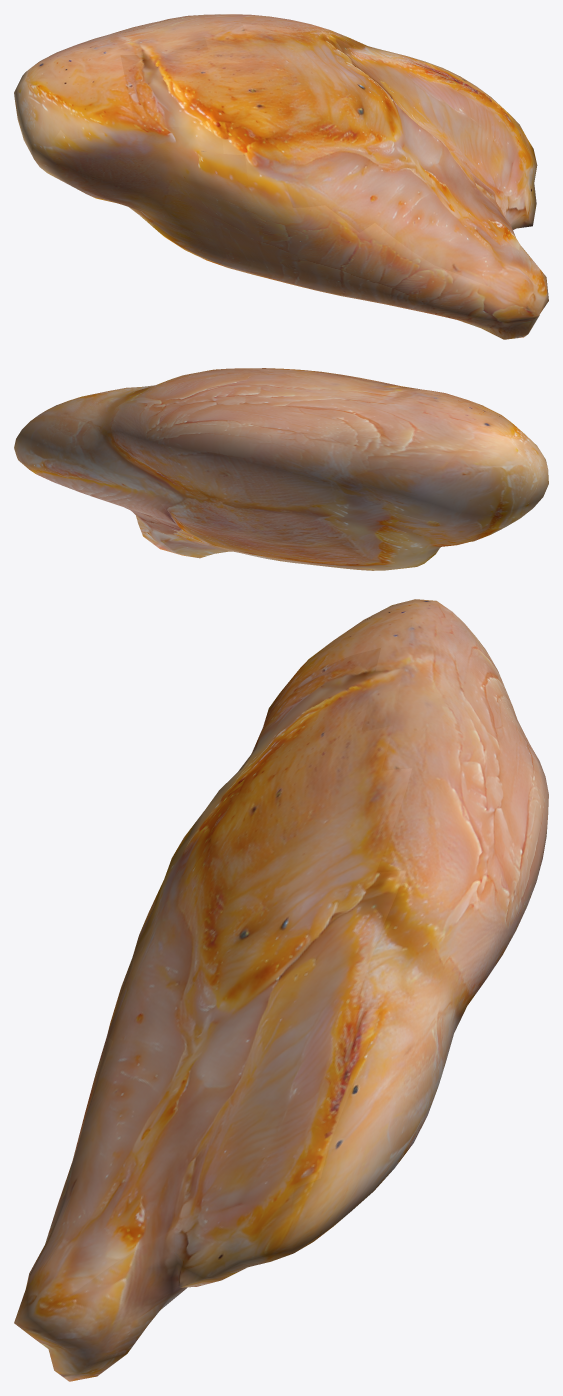
The model's file is Chicken_Breast.glb.
3 views of the same model, one above another, from view 1: azimuth 30°, elevation 25°; view 2: azimuth 150°, elevation 25°; view 3: azimuth 270°, elevation 25° (orthographic). The views are drawn at different scales.
Parts seen in each view (by area): view 1: default_CookedChickenBreast_0; view 2: default_CookedChickenBreast_0; view 3: default_CookedChickenBreast_0.
Part boxes in pixels (<box>): default_CookedChickenBreast_0: <box>14,14,548,339</box>; default_CookedChickenBreast_0: <box>14,368,548,570</box>; default_CookedChickenBreast_0: <box>14,599,548,1381</box>.
Size of the model in its own units: 0.1254 by 0.0728 by 0.0722.
1 material, 1 textured.
